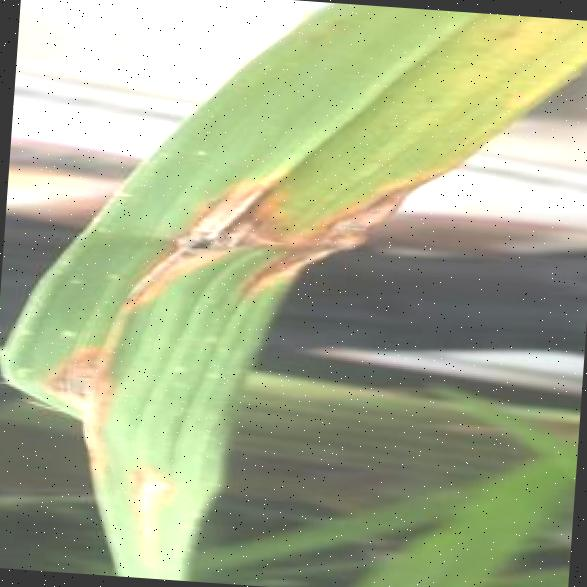Leaf_smut: (243, 150, 456, 326), (118, 141, 298, 344), (7, 323, 130, 468), (104, 434, 210, 564)
